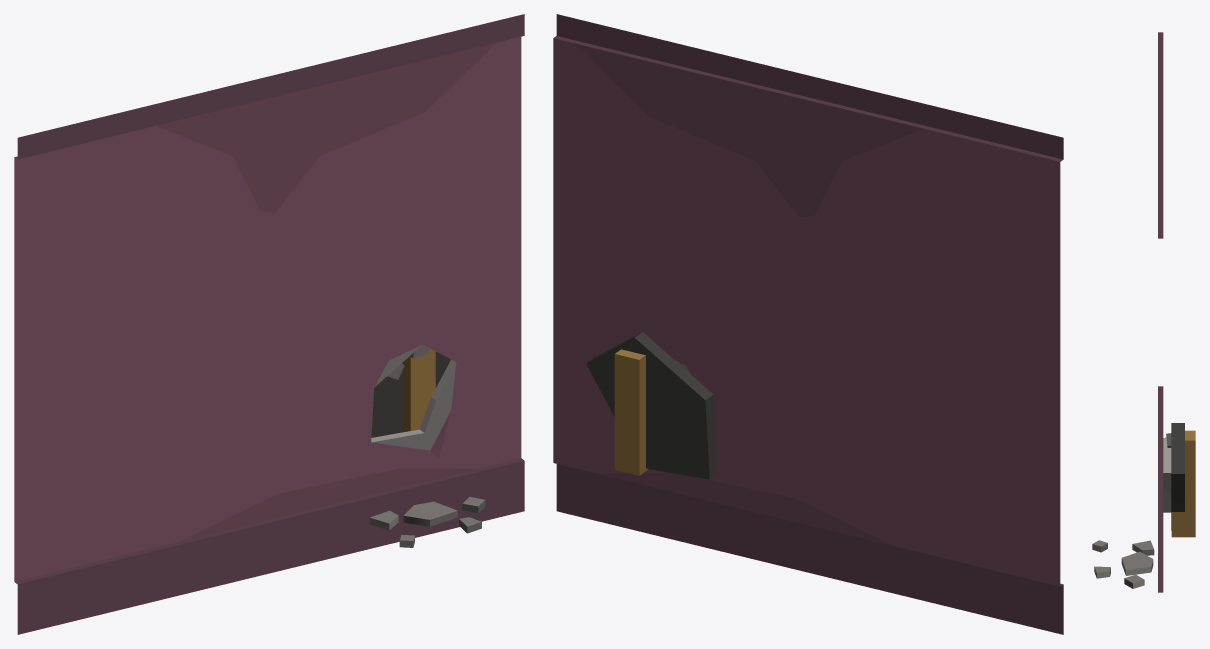
The model's file is AI_Env_Wall_Pink_Hole_Small.fbx.
3 views of the same model, side by side, from view 1: azimuth 30°, elevation 25°; view 2: azimuth 150°, elevation 25°; view 3: azimuth 270°, elevation 25° (orthographic). The views are drawn at different scales.
Visible parts, largest first — view 1: AI_Env_Wall_Pink_Hole_Small; view 2: AI_Env_Wall_Pink_Hole_Small; view 3: AI_Env_Wall_Pink_Hole_Small.
Boxes of the visible parts, left/top/right/bottom form: AI_Env_Wall_Pink_Hole_Small: left=14, top=14, right=524, bottom=634; AI_Env_Wall_Pink_Hole_Small: left=553, top=14, right=1063, bottom=634; AI_Env_Wall_Pink_Hole_Small: left=1092, top=32, right=1195, bottom=592.
Size of the model in its own units: 5 by 4.69 by 1.06.
